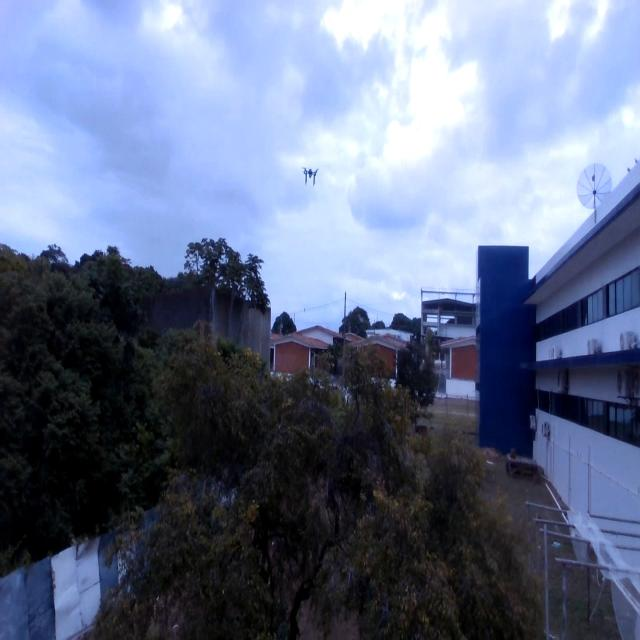-uav-: (291, 150, 329, 200)
